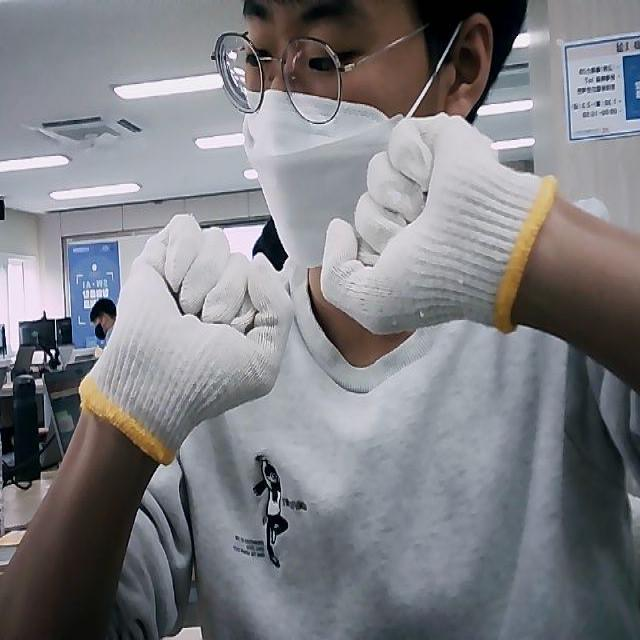gloves: (318, 112, 554, 336), (80, 214, 292, 457)
